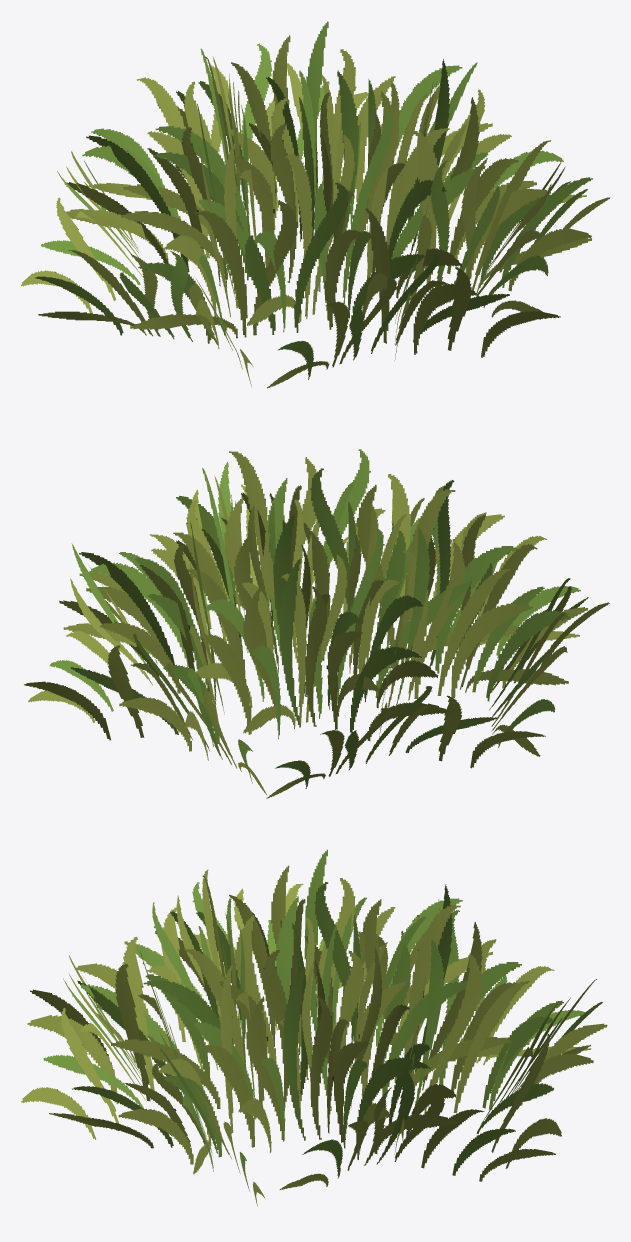
File: Short_Grass_Patch_1.gltf
3 renders of one model, top to bottom at view 1: azimuth 30°, elevation 25°; view 2: azimuth 150°, elevation 25°; view 3: azimuth 270°, elevation 25°, orthographic. The views are drawn at different scales.
Parts seen in each view (by area): view 1: Short_Grass_Patch_1; view 2: Short_Grass_Patch_1; view 3: Short_Grass_Patch_1.
Part boxes in pixels (bbox=[...]): Short_Grass_Patch_1: bbox=[21, 21, 610, 388]; Short_Grass_Patch_1: bbox=[24, 449, 609, 798]; Short_Grass_Patch_1: bbox=[21, 849, 607, 1206].
Size of the model in its own units: 57.91 by 22.59 by 55.15.
Materials: 1 (1 with a texture image).
